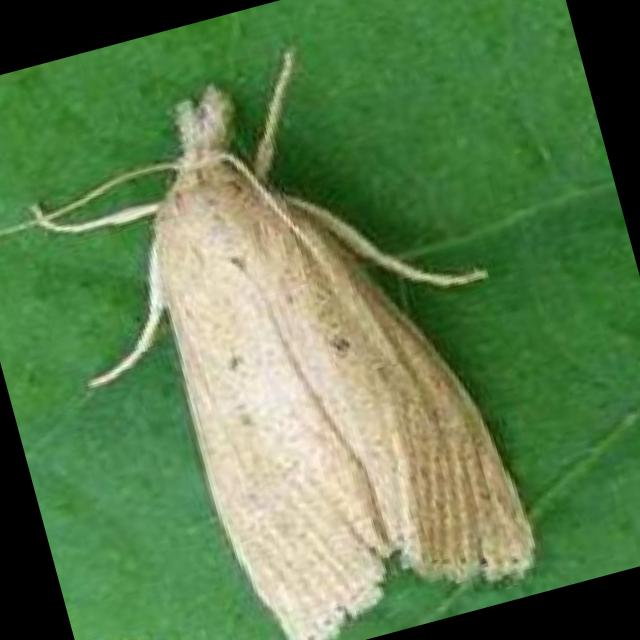stem-borer: (17, 7, 573, 640)
